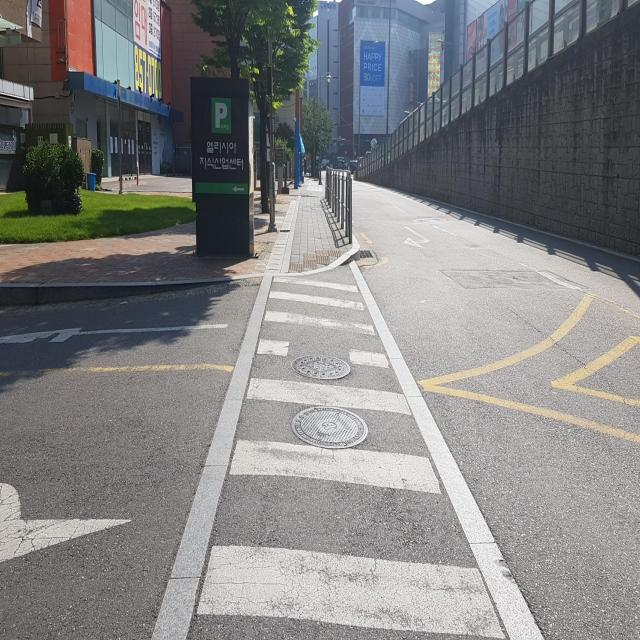횡단보도: (192, 269, 504, 640)
